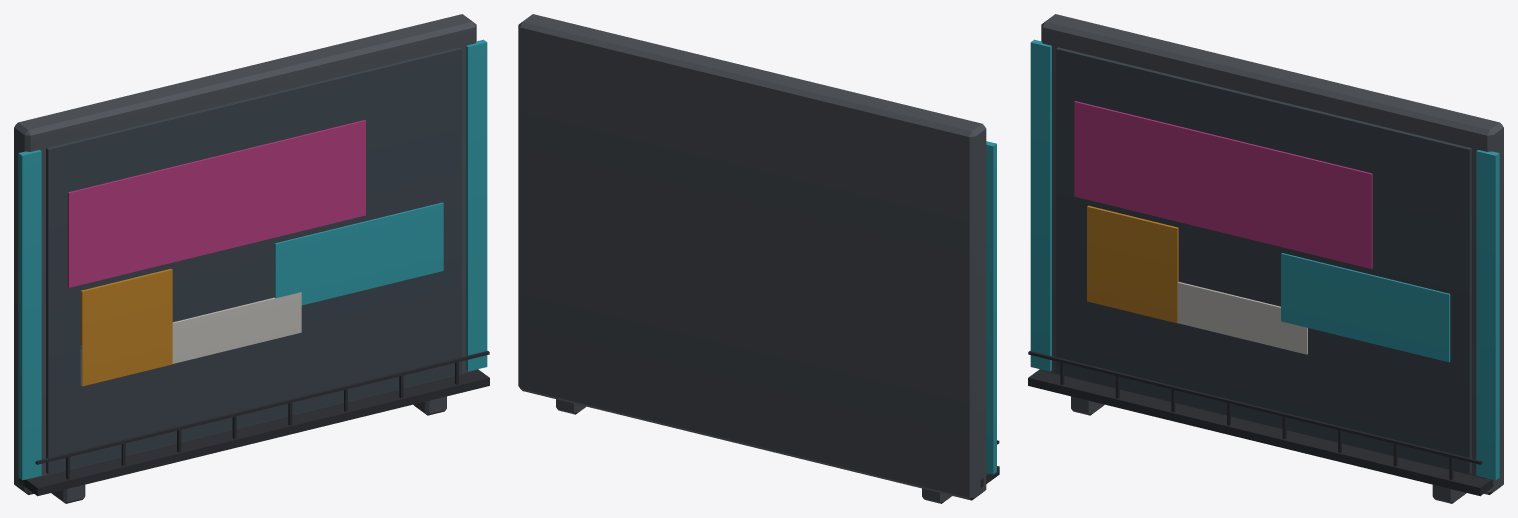
File: media_facade_01.glb
3 renders of one model, left to right at view 1: azimuth 30°, elevation 25°; view 2: azimuth 150°, elevation 25°; view 3: azimuth 330°, elevation 25°, orthographic.
Visible parts, largest first — view 1: media_facade_01; view 2: media_facade_01; view 3: media_facade_01.
Part boxes in pixels (x1,y1,x2,y2): media_facade_01: (14, 14, 489, 503); media_facade_01: (518, 14, 999, 503); media_facade_01: (1028, 14, 1503, 503).
Bounding box in the file's own units: 7.2 × 5.6 × 0.69.
